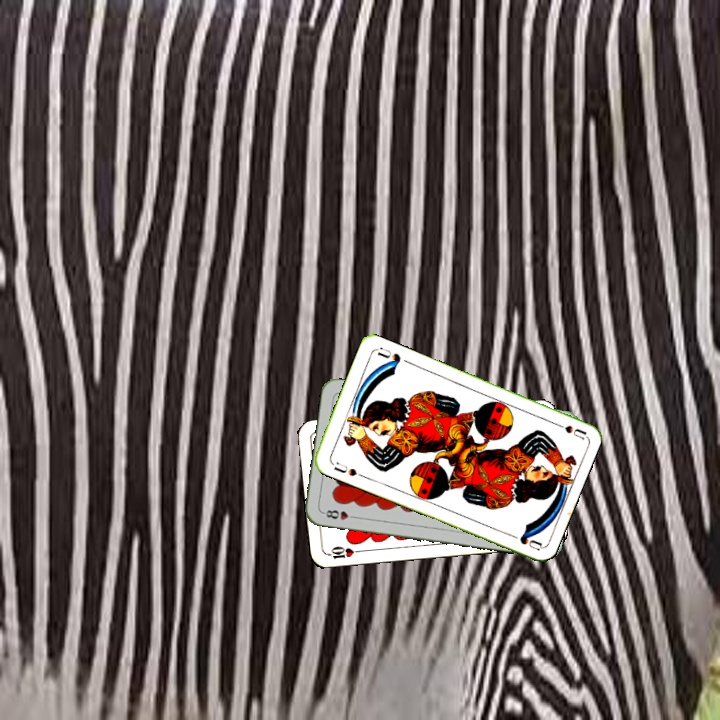H10: (323, 542, 364, 562)
H8: (319, 506, 359, 523)
SU: (548, 417, 588, 441), (330, 458, 366, 480)
